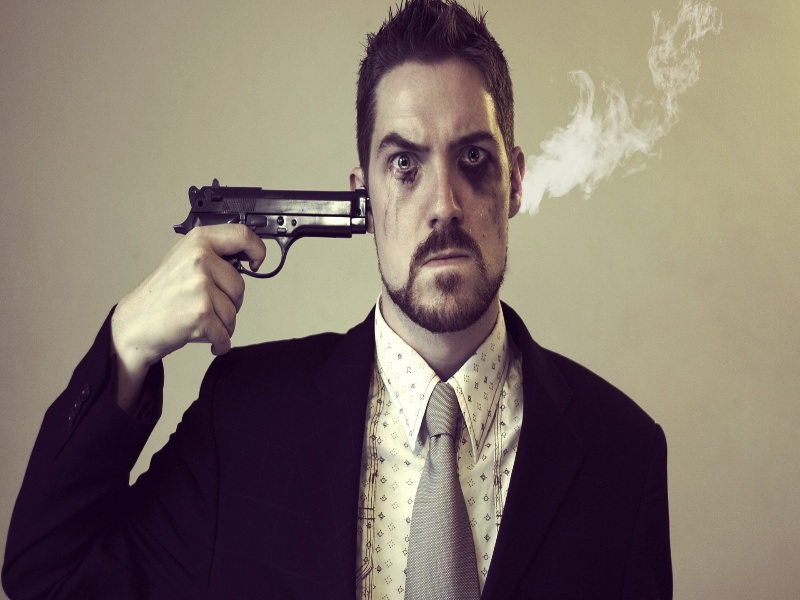person: (1, 1, 673, 600)
weapon: (174, 177, 370, 278)
